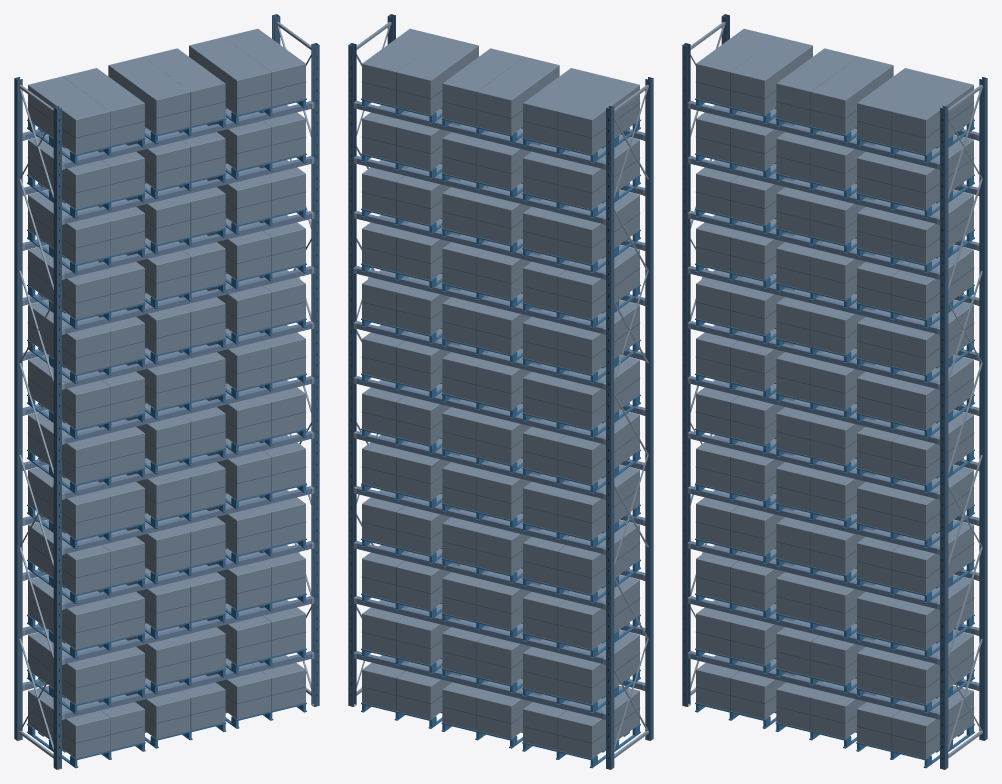
File: SM_GHS_CADRack_B.fbx
3 views of the same model, side by side, from view 1: azimuth 30°, elevation 25°; view 2: azimuth 150°, elevation 25°; view 3: azimuth 330°, elevation 25° (orthographic).
Visible parts, largest first — view 1: SM_GHS_CADRack_B; view 2: SM_GHS_CADRack_B; view 3: SM_GHS_CADRack_B.
Part boxes in pixels (x1=…): SM_GHS_CADRack_B: x1=14, y1=14, x2=319, y2=769; SM_GHS_CADRack_B: x1=348, y1=14, x2=653, y2=769; SM_GHS_CADRack_B: x1=682, y1=14, x2=987, y2=769.
Size of the model in its own units: 381 by 122 by 915.
